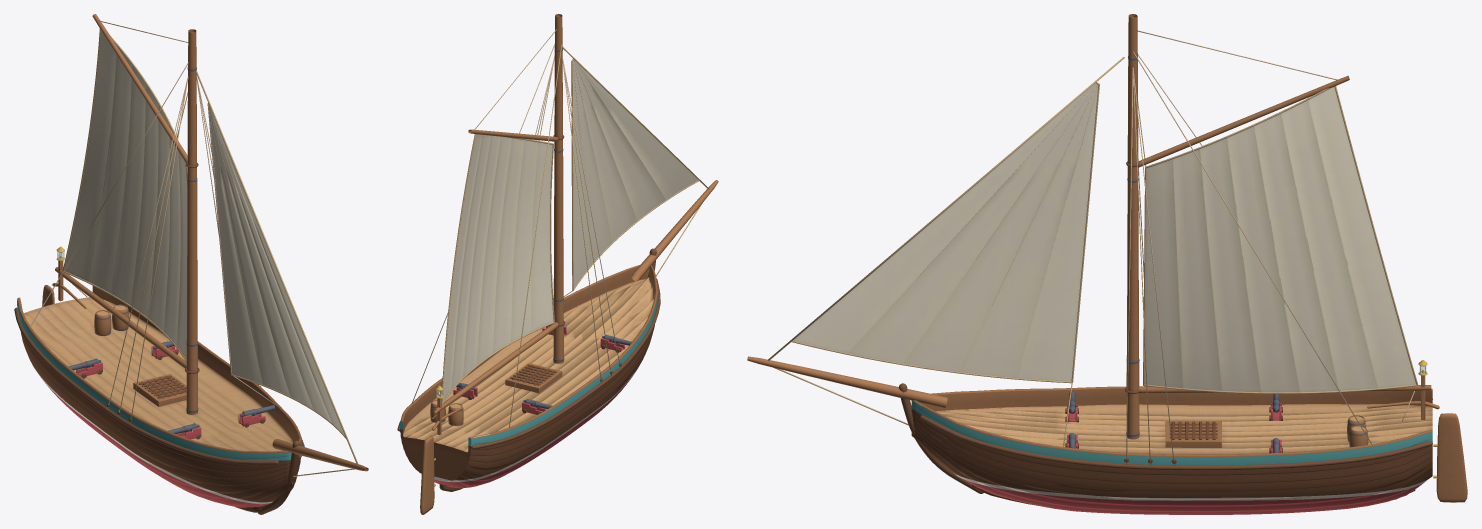
The model's file is pirate-sloop.glb.
3 renders of one model, left to right at view 1: azimuth 30°, elevation 25°; view 2: azimuth 150°, elevation 25°; view 3: azimuth 270°, elevation 25°, orthographic. The views are drawn at different scales.
Visible parts, largest first — view 1: pirate-sloop_body; view 2: pirate-sloop_body; view 3: pirate-sloop_body.
Part boxes in pixels (left/top/right/bottom): pirate-sloop_body: left=14, top=14, right=368, bottom=514; pirate-sloop_body: left=397, top=14, right=718, bottom=514; pirate-sloop_body: left=747, top=14, right=1467, bottom=514.
Bounding box in the file's own units: 3.92 × 12.6 × 16.6.
Materials: 4 (1 with a texture image).
